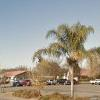Palm tree: (45, 18, 93, 100)
